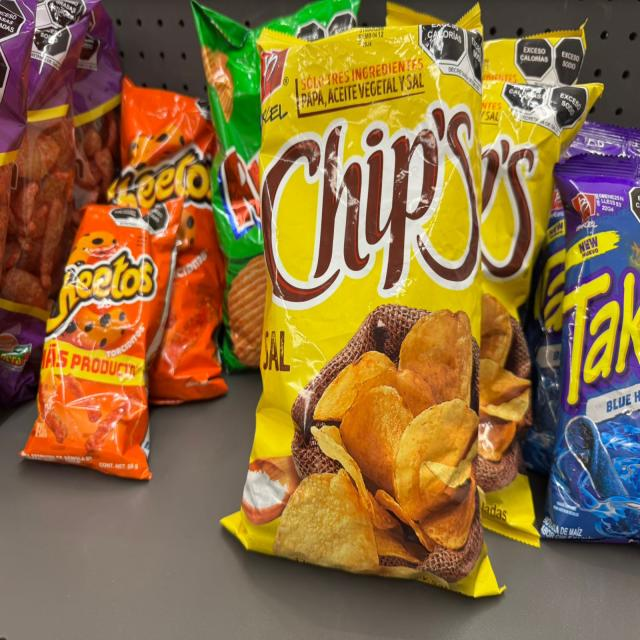CHEETOS TORCIDITOS 240GR: (19, 201, 184, 479)
Cheetos grandes: (117, 81, 228, 421)
Papas Chips Barcel 170 gr bolsa con sal: (214, 7, 502, 602)
RUFFLES QUESO 185GR: (194, 3, 359, 375)
Takis Blue 75g: (541, 156, 640, 560), (529, 175, 569, 472), (568, 123, 640, 157)
chicharrones de cerdo intenso: (0, 2, 101, 426), (0, 0, 39, 271), (77, 0, 123, 207)
